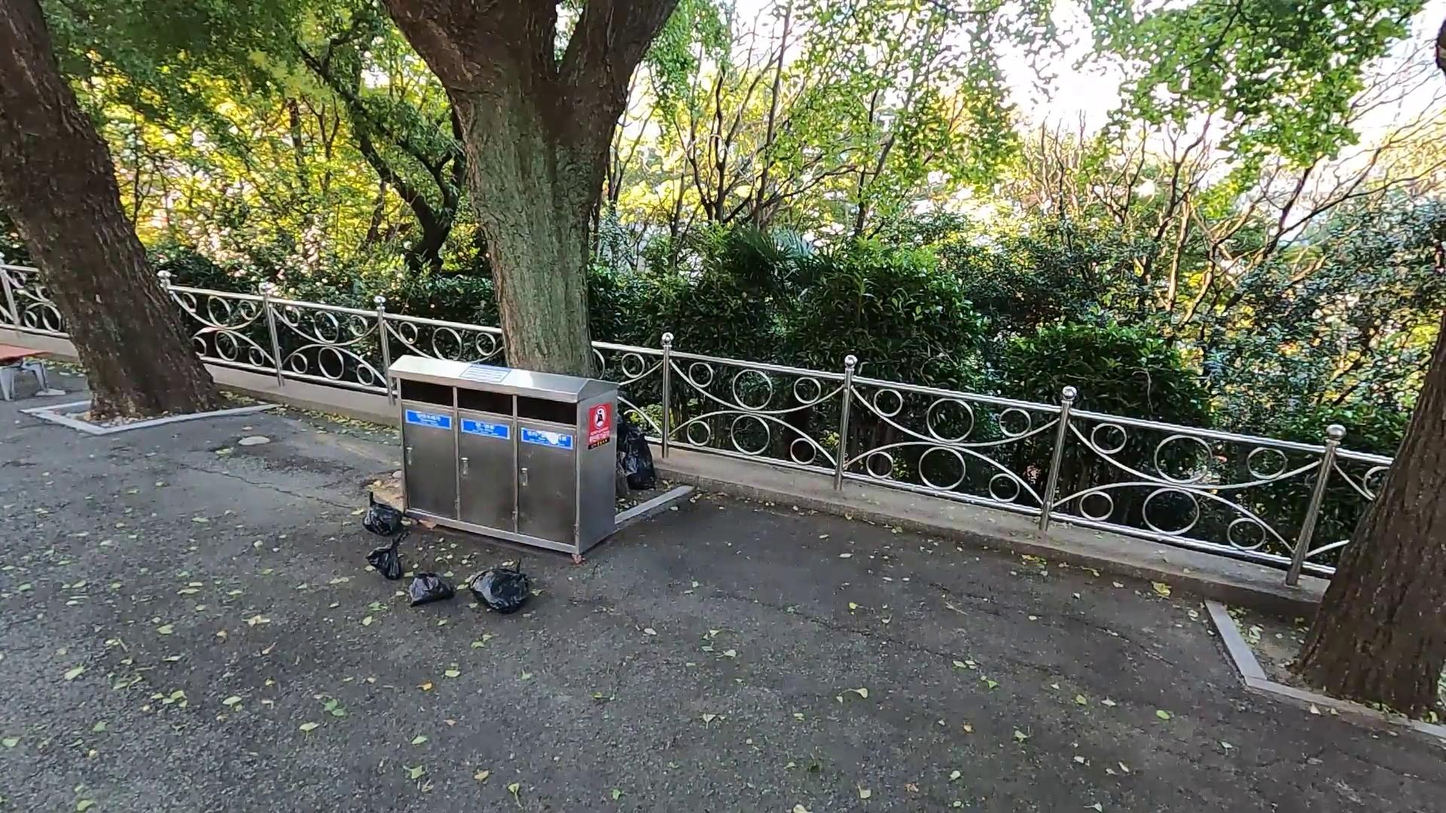trash: (468, 553, 533, 618), (620, 413, 667, 495), (405, 568, 459, 611), (358, 491, 406, 538), (363, 539, 412, 583)
